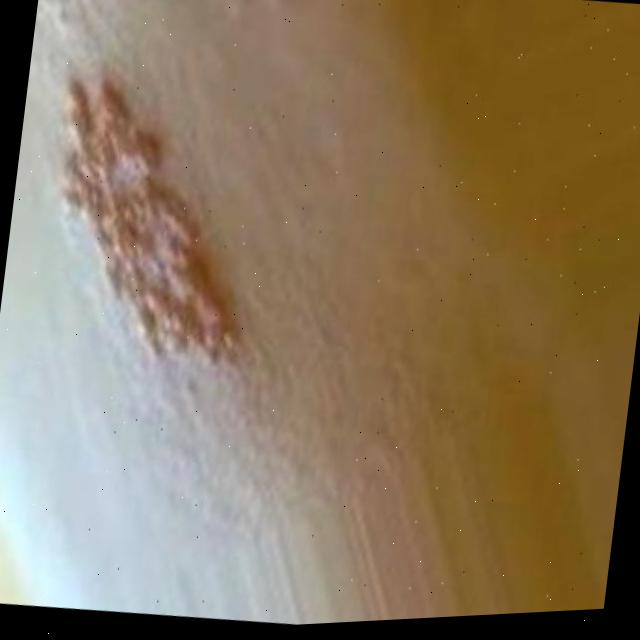Shingles: (25, 56, 265, 375)
